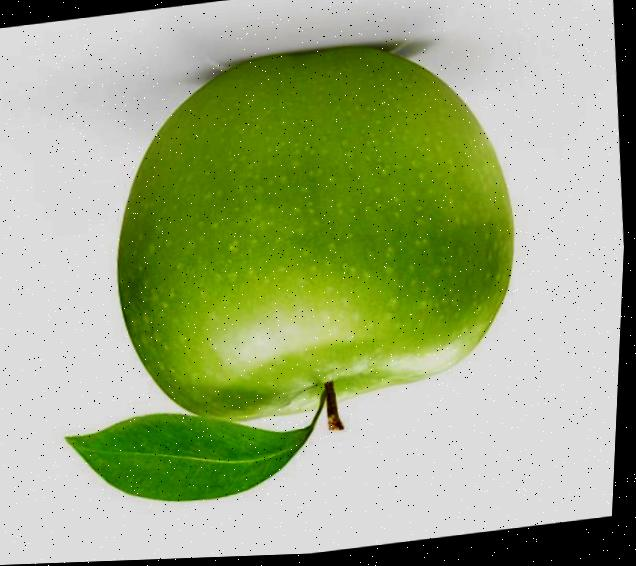HEALTHY: (54, 6, 565, 502)
